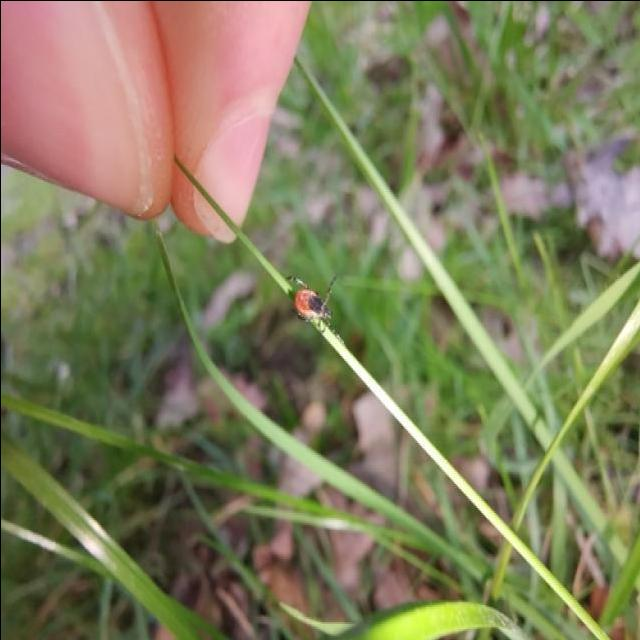Ixodes Ricinus-F: (291, 275, 337, 321)
